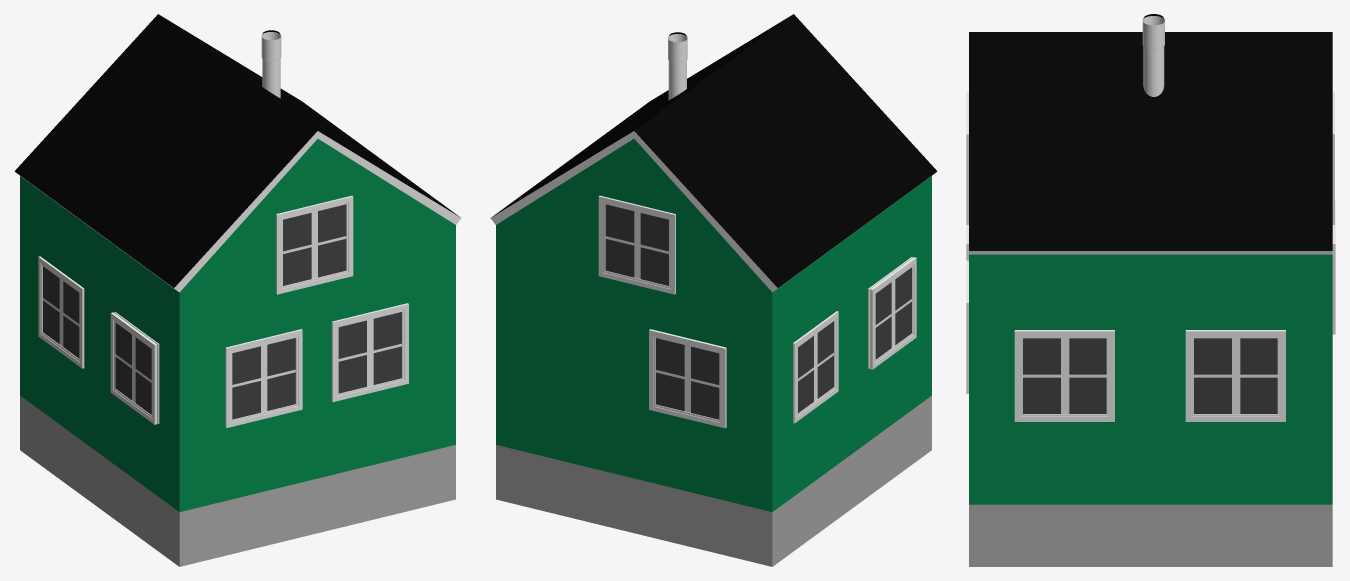
Rendered from SmallHouse_green.glb.
3 renders of one model, left to right at view 1: azimuth 30°, elevation 25°; view 2: azimuth 150°, elevation 25°; view 3: azimuth 270°, elevation 25°, orthographic. The views are drawn at different scales.
Visible parts, largest first — view 1: Cube, Cube.001, Cube.010, Cube.002, Cube.003, Cube.005; view 2: Cube, Cube.006, Cube.009, Cube.003, Cube.005; view 3: Cube, Cube.007, Cube.008, Cube.006.
Boxes of the visible parts, <box> form: Cube: <box>14,14,461,566</box>; Cube.001: <box>225,329,302,427</box>; Cube.010: <box>331,303,408,401</box>; Cube.002: <box>276,195,353,294</box>; Cube.003: <box>110,312,157,424</box>; Cube.005: <box>38,256,84,368</box>; Cube: <box>490,14,937,566</box>; Cube.006: <box>649,329,726,428</box>; Cube.009: <box>598,195,675,294</box>; Cube.003: <box>870,257,916,369</box>; Cube.005: <box>793,311,838,423</box>; Cube: <box>969,14,1332,566</box>; Cube.007: <box>1014,330,1114,421</box>; Cube.008: <box>1185,330,1285,421</box>; Cube.006: <box>1332,201,1335,334</box>.
Size of the model in its own units: 2.08 by 2.98 by 2.03.
